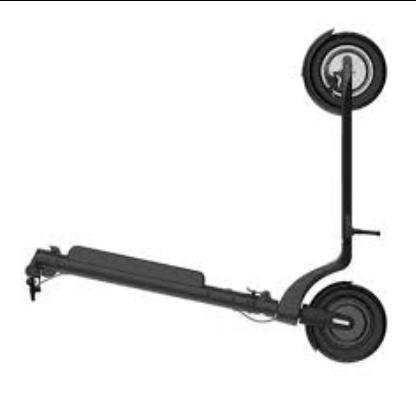bike: (3, 30, 391, 365), (23, 230, 387, 365)
